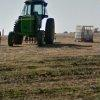Tractor: (5, 2, 60, 53)
